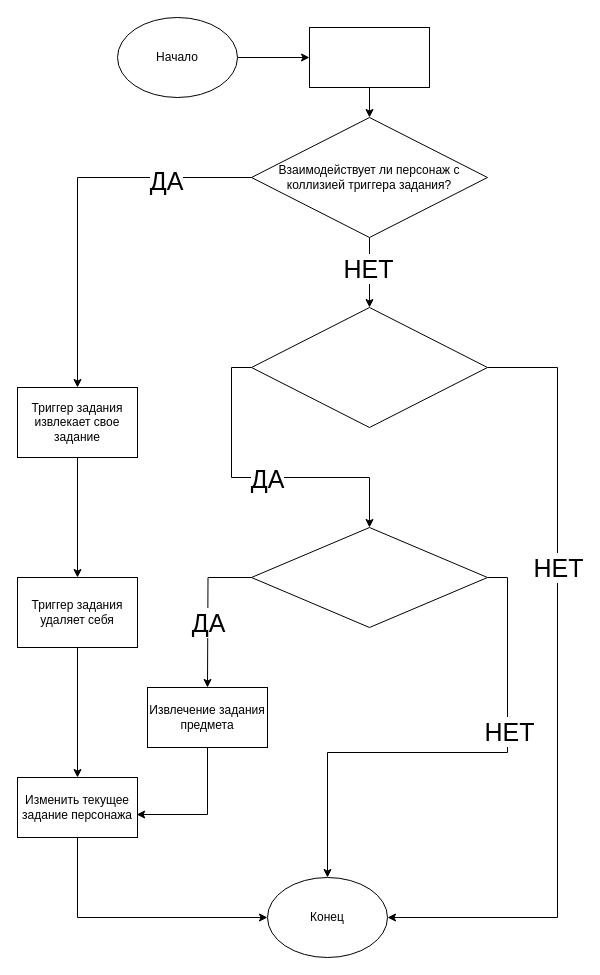
The diagram is 600 pixels wide and 975 high, and some of its shapes have lost their labels. The shapes that lost their labels are listed below. From the top down, each one's centre as x and y in pixels, then its label:
pixel 369 57: Управление персонажем
pixel 369 367: Взаимодействует ли персонаж с предметом?
pixel 369 577: Есть ли возможность у предмета изменить задание
